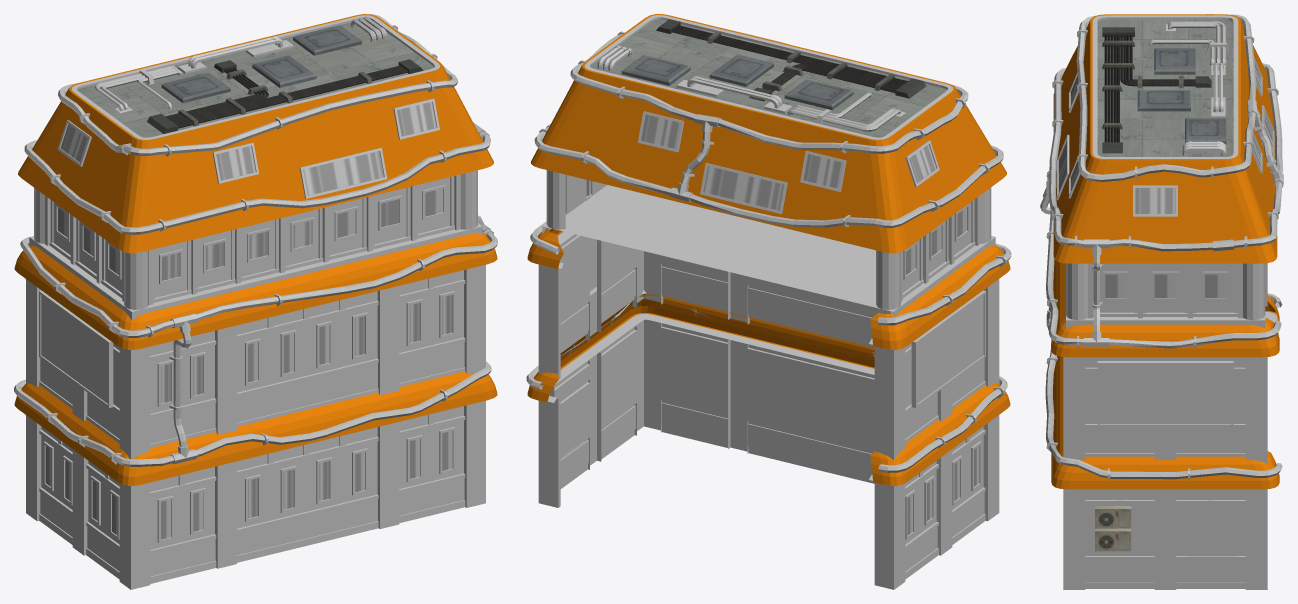
Rendered from REDUCTION_SM_ENV_KNVLLG_CommonBuilding_C_1.mo.fbx.
3 renders of one model, left to right at view 1: azimuth 30°, elevation 25°; view 2: azimuth 150°, elevation 25°; view 3: azimuth 270°, elevation 25°, orthographic. The views are drawn at different scales.
Parts seen in each view (by area): view 1: REDUCTION_SM_ENV_KNVLLG_CommonBuilding_C_1.mo; view 2: REDUCTION_SM_ENV_KNVLLG_CommonBuilding_C_1.mo; view 3: REDUCTION_SM_ENV_KNVLLG_CommonBuilding_C_1.mo.
Part boxes in pixels (x1,y1,x2,y2): REDUCTION_SM_ENV_KNVLLG_CommonBuilding_C_1.mo: [14, 14, 497, 589]; REDUCTION_SM_ENV_KNVLLG_CommonBuilding_C_1.mo: [526, 14, 1011, 589]; REDUCTION_SM_ENV_KNVLLG_CommonBuilding_C_1.mo: [1040, 14, 1283, 589].
Size of the model in its own units: 17.83 by 19.4 by 10.03.
